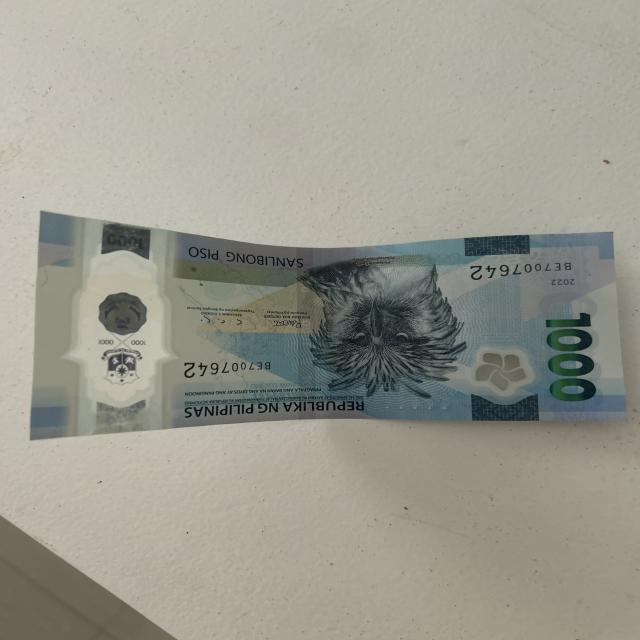clear_window: (53, 213, 184, 444)
eagle: (302, 253, 459, 402)
sampaguita: (464, 332, 538, 398)
security_thread: (294, 242, 323, 425)
serial_number: (459, 258, 585, 282), (172, 354, 276, 383)
value: (545, 304, 603, 409)
